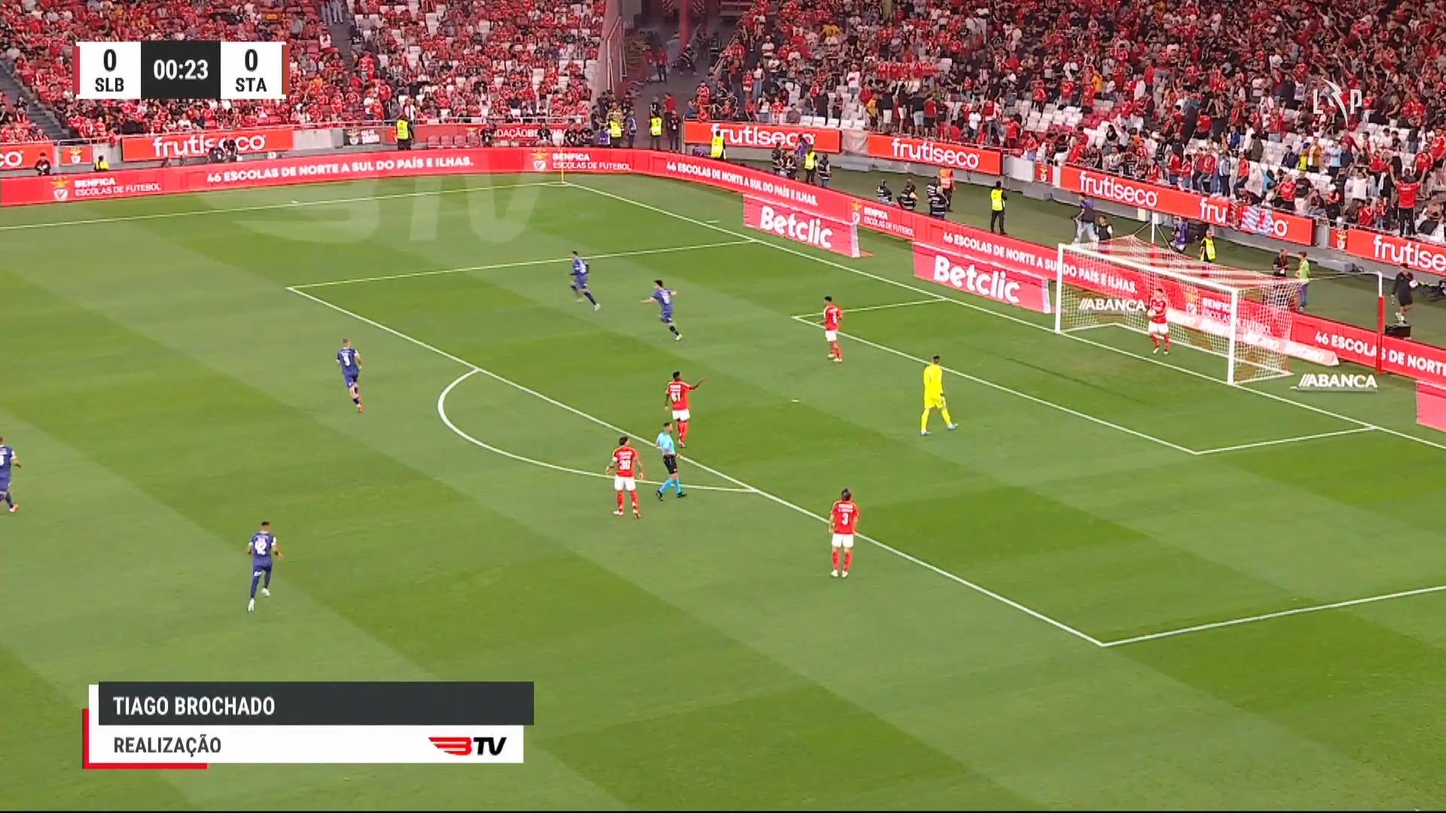ball: (1147, 309, 1157, 318)
goalkeeper: (919, 354, 959, 435)
player: (604, 434, 645, 519), (245, 520, 282, 613), (663, 370, 706, 449), (827, 487, 859, 578), (639, 279, 683, 341), (335, 337, 364, 413), (567, 249, 600, 312), (1145, 287, 1171, 355), (0, 436, 22, 512), (820, 294, 844, 362)
referee: (653, 421, 686, 501)
